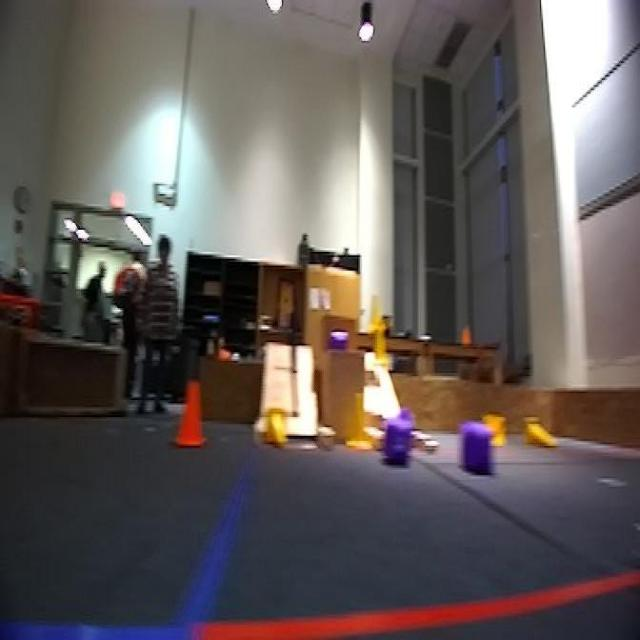frc_cone: (346, 390, 376, 453), (521, 417, 556, 451), (369, 322, 392, 369), (264, 410, 289, 450), (479, 409, 505, 427), (371, 303, 386, 334)
frc_cube: (377, 416, 411, 462), (461, 427, 494, 472), (326, 332, 346, 351)
